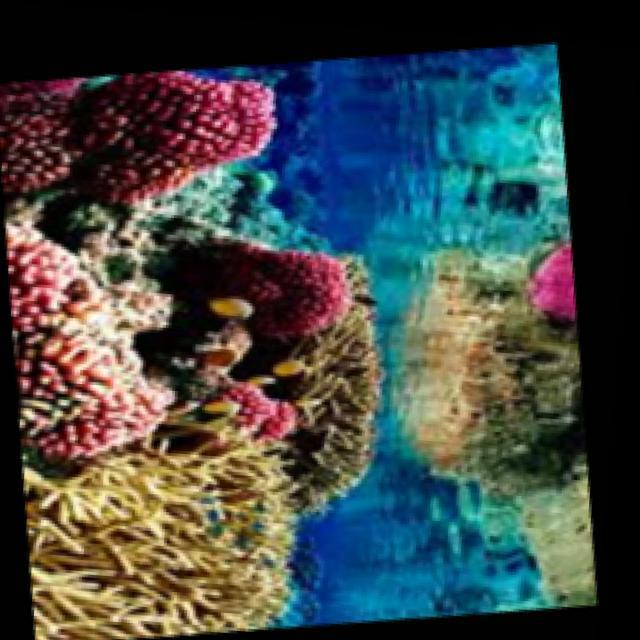Dead Coral: (290, 304, 409, 502)
